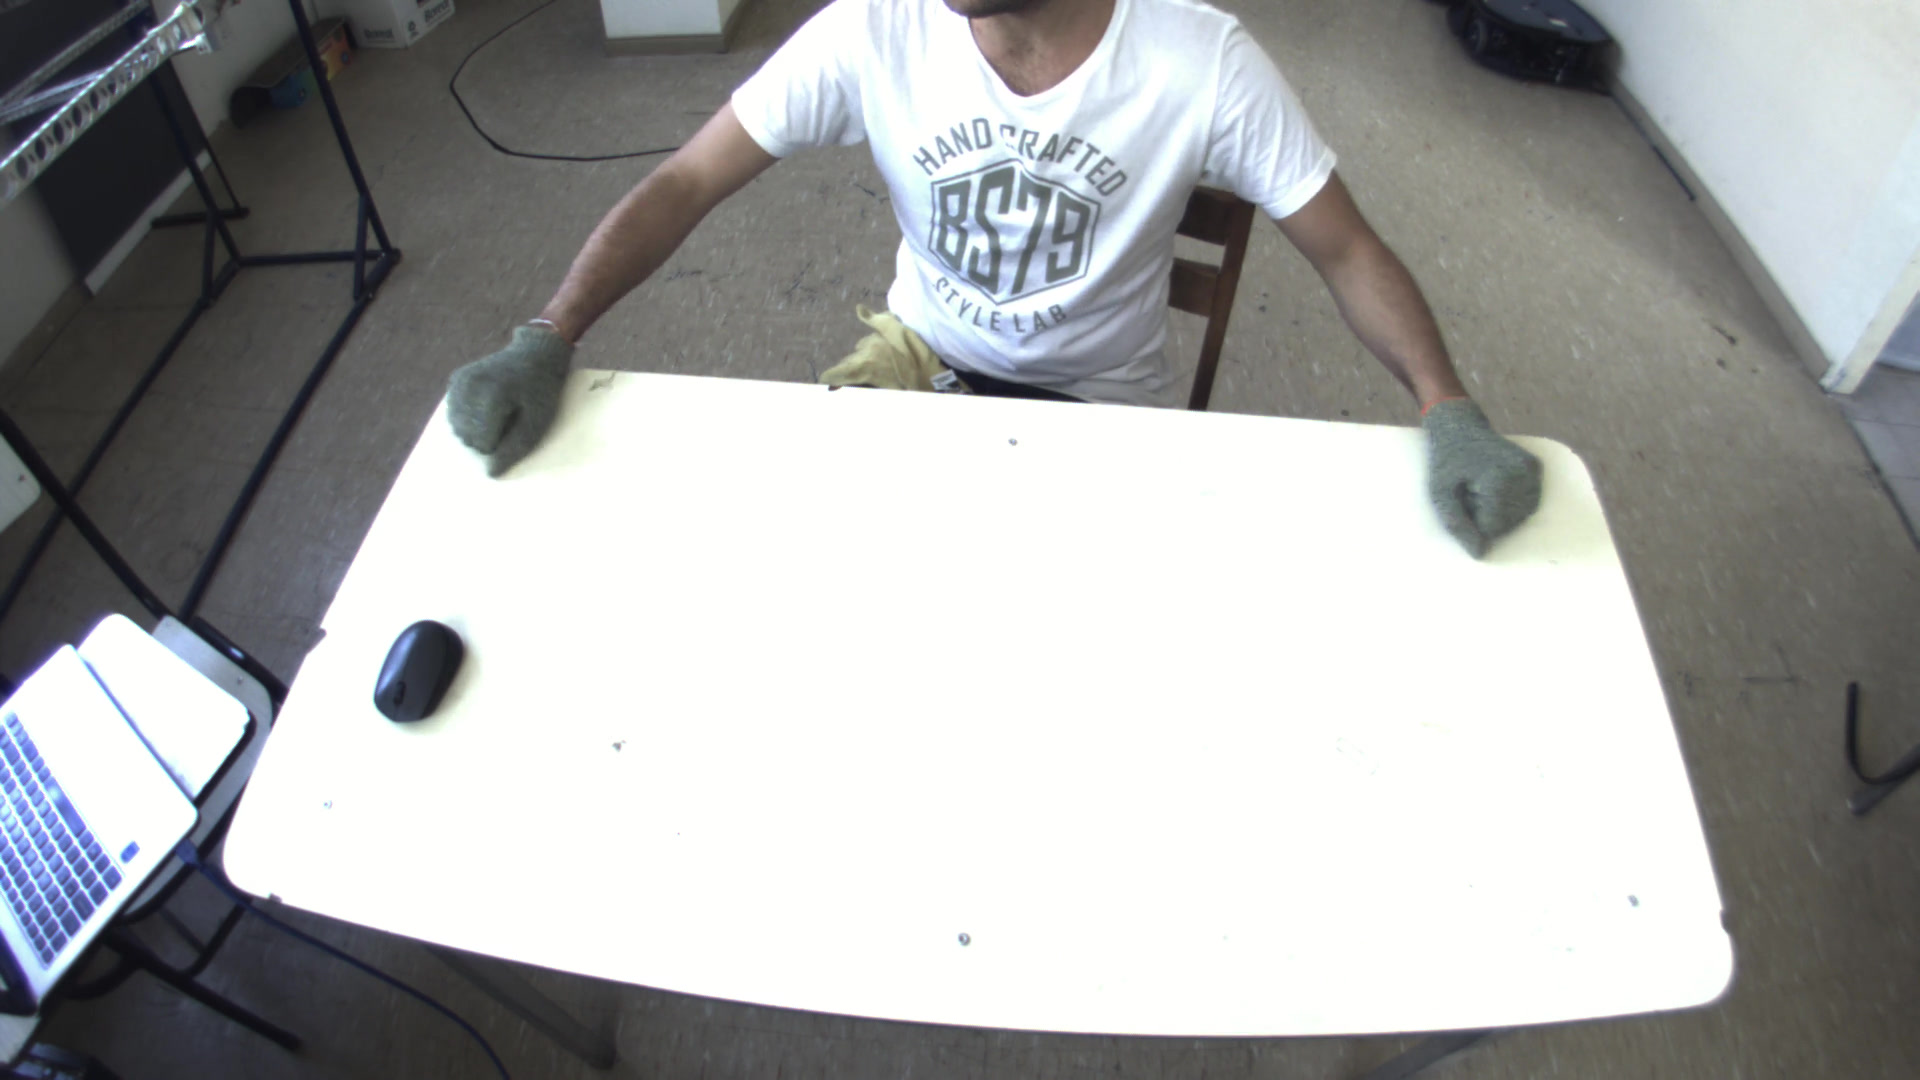hand: (429, 310, 582, 475), (1414, 388, 1552, 555)
